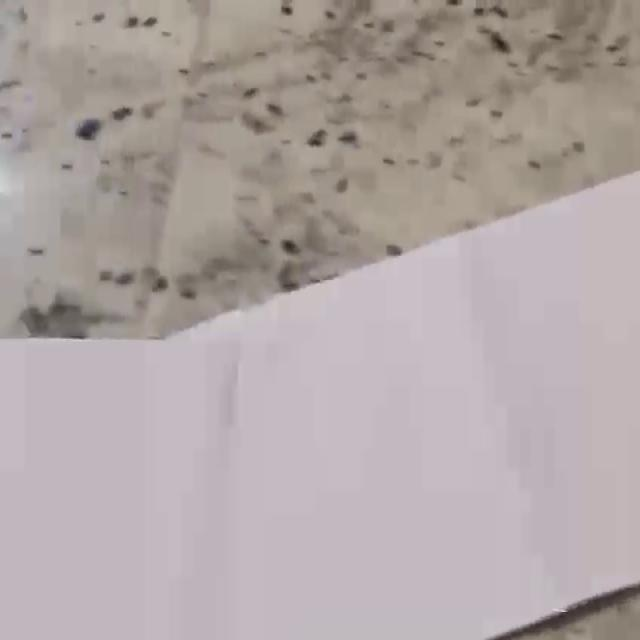road: (0, 169, 640, 640)
